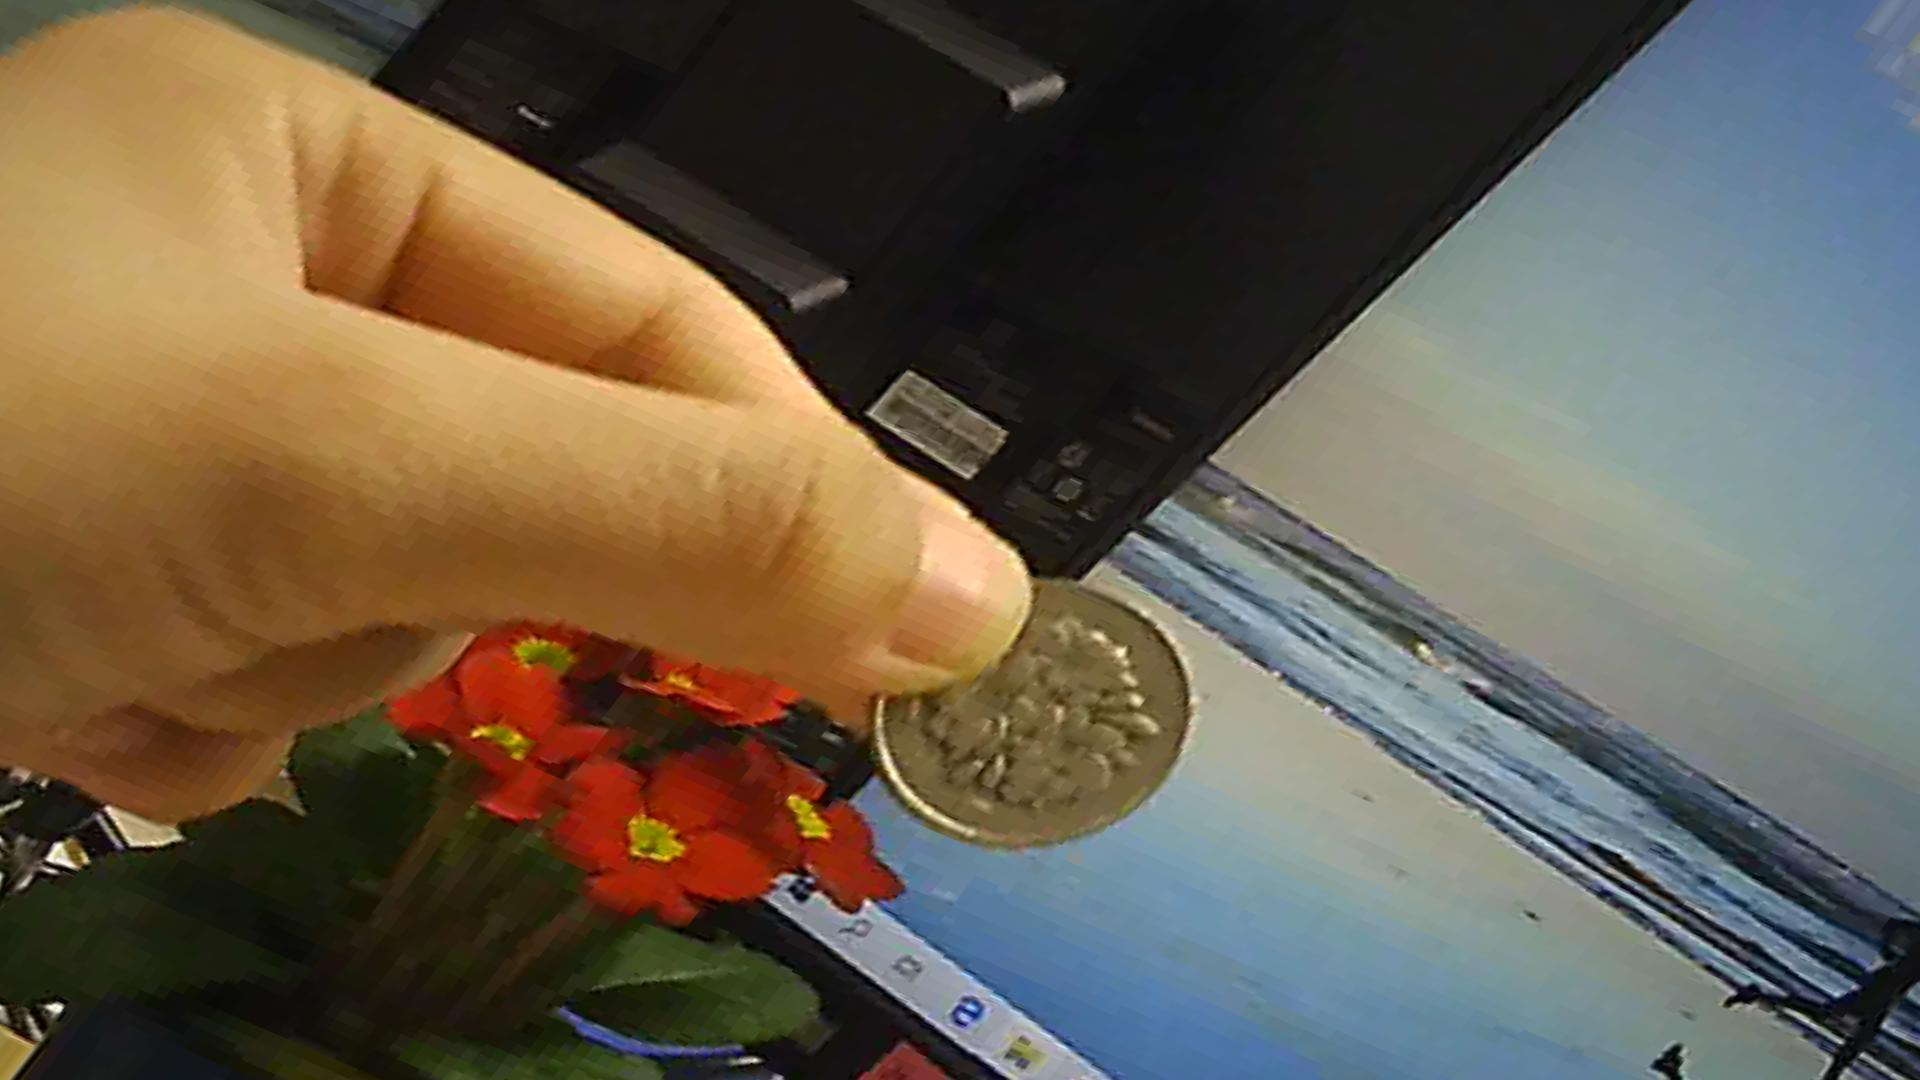100 Yen: (869, 562, 1201, 853)
